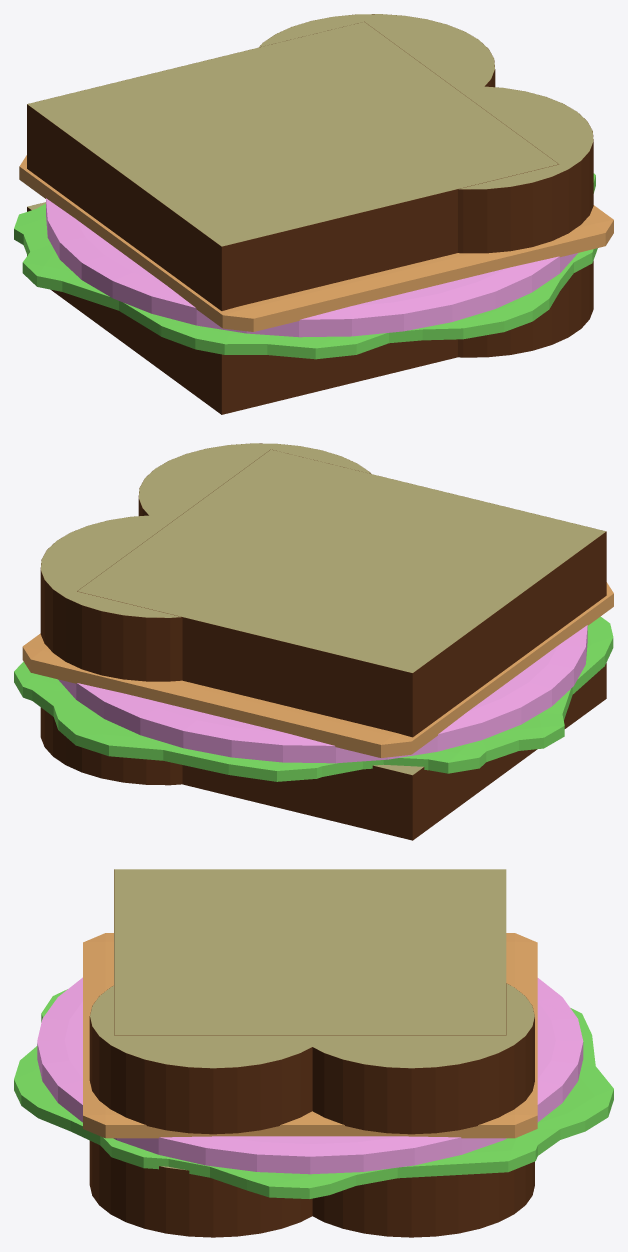
Rendered from Sandwich.fbx.
3 renders of one model, top to bottom at view 1: azimuth 30°, elevation 25°; view 2: azimuth 150°, elevation 25°; view 3: azimuth 270°, elevation 25°, orthographic.
Parts seen in each view (by area): view 1: Sandwich; view 2: Sandwich; view 3: Sandwich.
Boxes of the visible parts, box(x1,y1,x2,y2) form: Sandwich: box(14, 14, 613, 414); Sandwich: box(14, 443, 613, 840); Sandwich: box(14, 869, 613, 1237).
Bounding box in the file's own units: 617 × 189 × 606.
